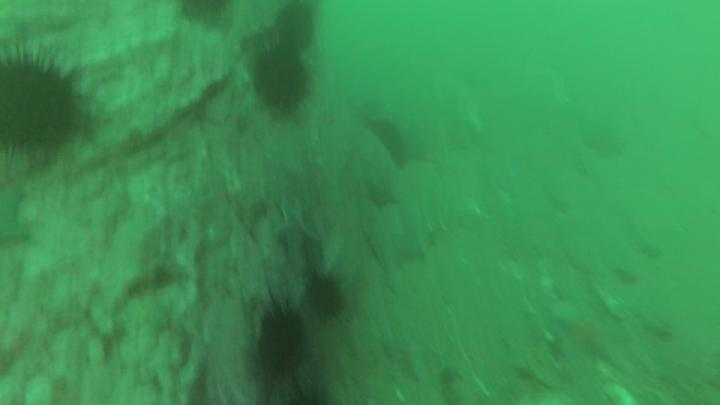echinus: (4, 63, 77, 158), (254, 53, 309, 111), (260, 313, 307, 375), (272, 5, 316, 51), (305, 279, 341, 319)
starfish: (553, 307, 623, 363), (274, 207, 318, 258), (367, 175, 396, 208)
